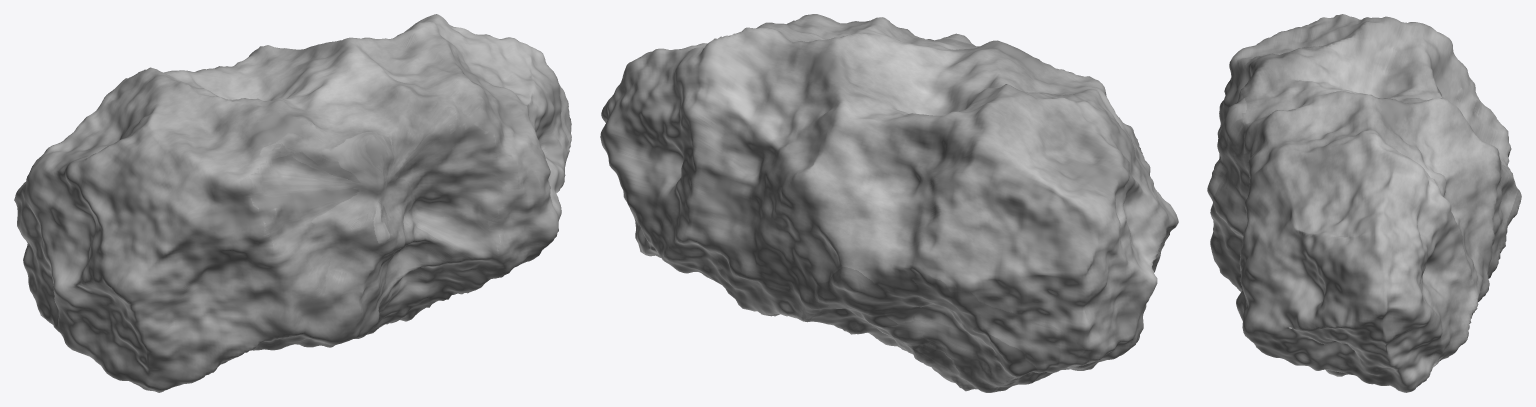
The model's file is AstroidTwo.gltf.
3 renders of one model, left to right at view 1: azimuth 30°, elevation 25°; view 2: azimuth 150°, elevation 25°; view 3: azimuth 270°, elevation 25°, orthographic. The views are drawn at different scales.
Parts seen in each view (by area): view 1: Cube.001; view 2: Cube.001; view 3: Cube.001.
Boxes of the visible parts, x1=… form: Cube.001: x1=14, y1=14, x2=571, y2=392; Cube.001: x1=600, y1=14, x2=1178, y2=392; Cube.001: x1=1207, y1=14, x2=1521, y2=392.
Size of the model in its own units: 3.87 by 2.05 by 2.13.
Materials: 1 (1 with a texture image).
